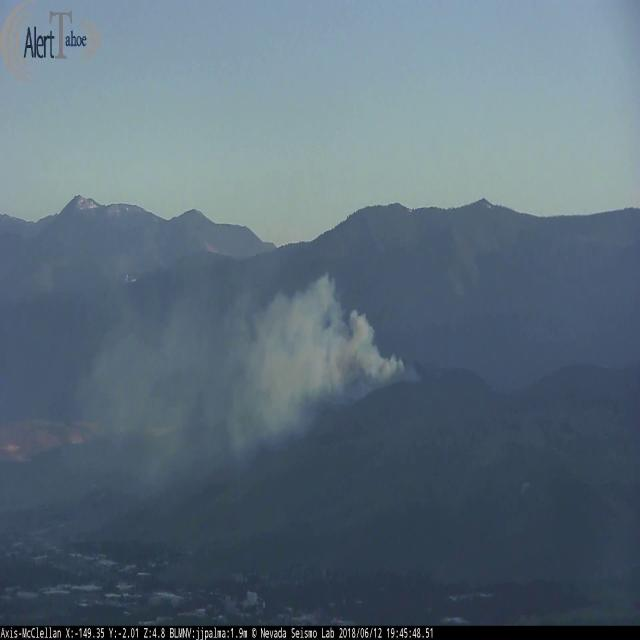smoke: (40, 270, 408, 504)
